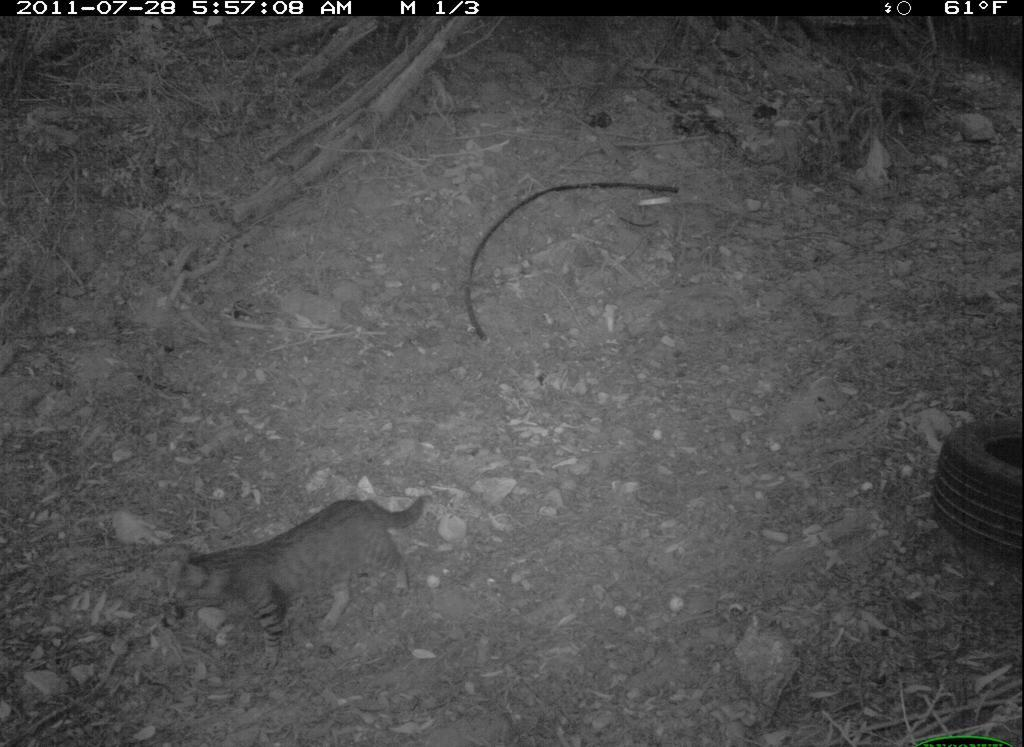cat: (171, 477, 441, 655)
